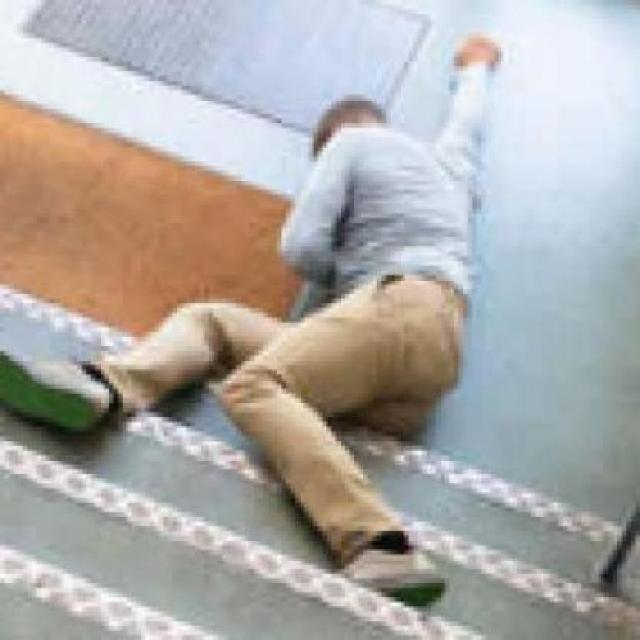fall: (0, 24, 505, 611)
